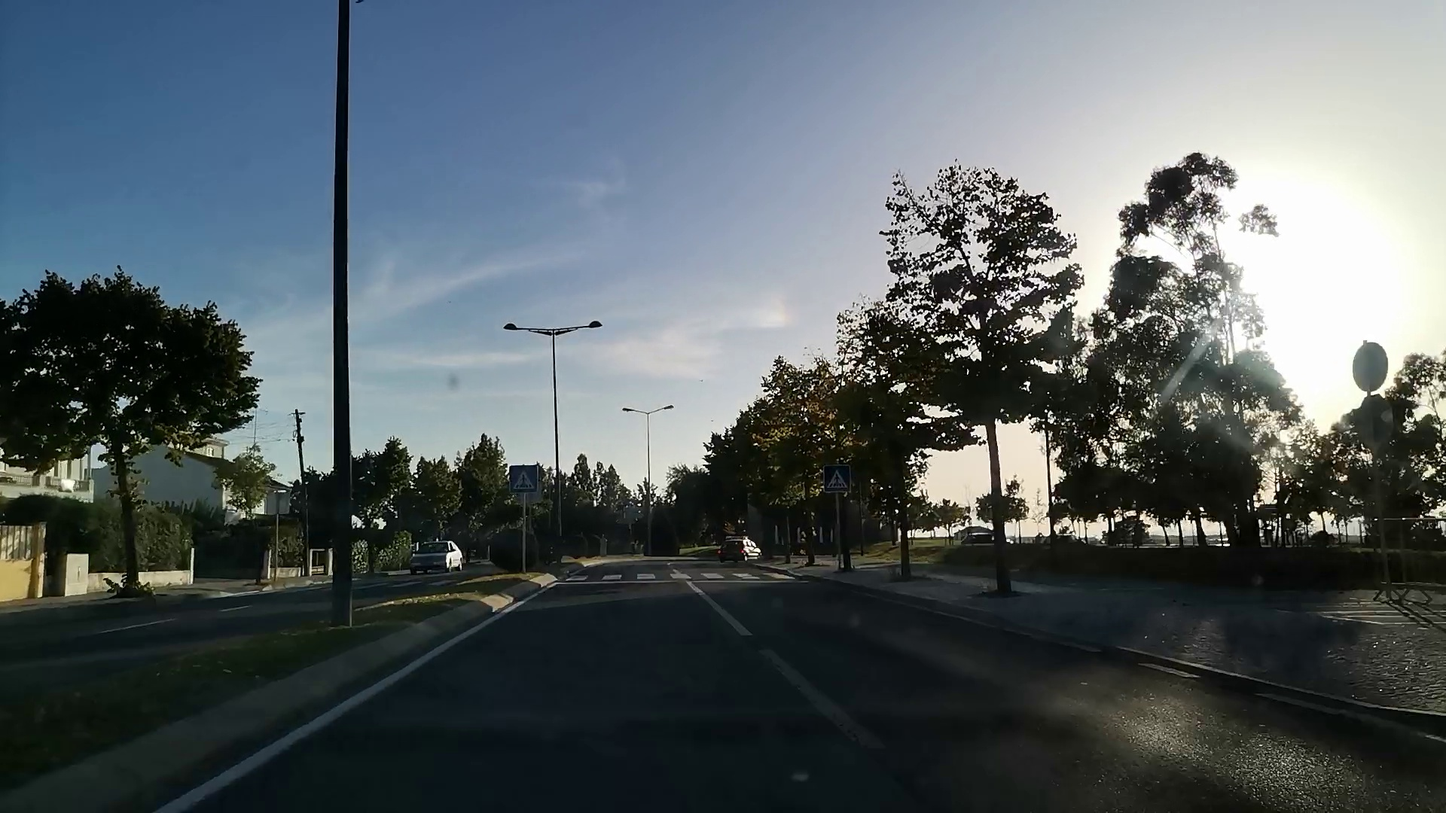Stairs: (559, 560, 813, 594)
